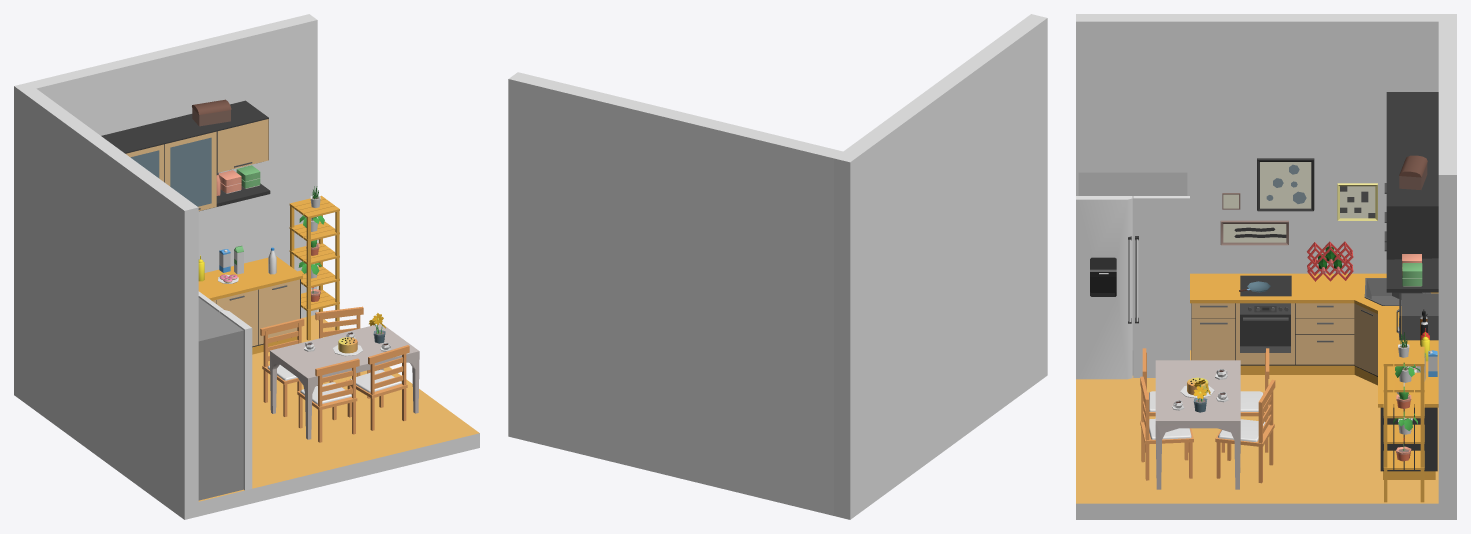
File: room_14.glb
3 renders of one model, left to right at view 1: azimuth 30°, elevation 25°; view 2: azimuth 150°, elevation 25°; view 3: azimuth 270°, elevation 25°, orthographic. The views are drawn at different scales.
Visible parts, largest first — view 1: Walls_006.044, Walls_006.038, Walls_010.003, kitchen_item_033.001, kitchen_item_045.001, kitchen_item_044.001, kitchen_table_004.001, shelf_070.001, kitchen_chair_003.004, kitchen_chair_003.003, kitchen_chair_003.001, kitchen_chair_003.002 (+1 smaller); view 2: Walls_006.038, Walls_006.044; view 3: Walls_006.044, Walls_010.003, kitchen_item_044.001, kitchen_item_033.001, Walls_006.038, kitchen_item_045.001, picture_034.002, kitchen_table_004.001, shelf_070.001, kitchen_chair_003.002, kitchen_item_007.001, kitchen_chair_003.004 (+4 smaller).
Boxes of the visible parts, box(x1,y1,x2,y2) form: Walls_006.044: box(14, 82, 198, 519); Walls_006.038: box(28, 14, 317, 318); Walls_010.003: box(198, 315, 479, 516); kitchen_item_033.001: box(198, 291, 252, 500); kitchen_item_045.001: box(101, 100, 270, 211); kitchen_item_044.001: box(198, 256, 302, 354); kitchen_table_004.001: box(269, 324, 419, 439); shelf_070.001: box(289, 195, 339, 340); kitchen_chair_003.004: box(346, 345, 409, 430); kitchen_chair_003.003: box(297, 358, 359, 442); kitchen_chair_003.001: box(260, 318, 317, 416); kitchen_chair_003.002: box(315, 306, 370, 398); Walls_006.038: box(508, 72, 842, 515); Walls_006.044: box(834, 14, 1047, 519); Walls_006.044: box(1076, 14, 1456, 350); Walls_010.003: box(1076, 350, 1438, 519); kitchen_item_044.001: box(1190, 273, 1438, 479); kitchen_item_033.001: box(1076, 172, 1189, 379); Walls_006.038: box(1438, 21, 1456, 519); kitchen_item_045.001: box(1384, 92, 1438, 292); picture_034.002: box(1220, 158, 1377, 245); kitchen_table_004.001: box(1155, 360, 1240, 489); shelf_070.001: box(1383, 346, 1424, 502); kitchen_chair_003.002: box(1215, 379, 1275, 483); kitchen_item_007.001: box(1396, 293, 1438, 340); kitchen_chair_003.004: box(1140, 376, 1193, 480).
Size of the model in its own units: 4.2 by 4.2 by 4.2.
Materials: 1 (1 with a texture image).
